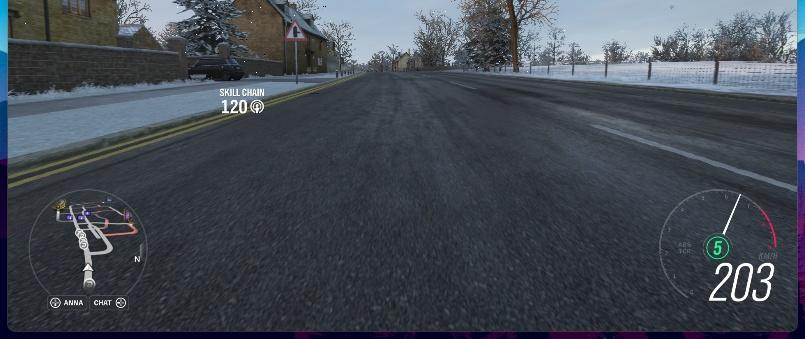House: (224, 0, 337, 75), (8, 0, 119, 47), (391, 51, 422, 71)
Tree: (457, 0, 559, 72), (162, 0, 255, 58), (714, 7, 796, 63), (412, 9, 461, 67), (650, 21, 714, 64), (320, 19, 354, 76), (114, 0, 151, 28), (601, 39, 628, 77), (544, 25, 565, 64), (565, 41, 582, 74)
